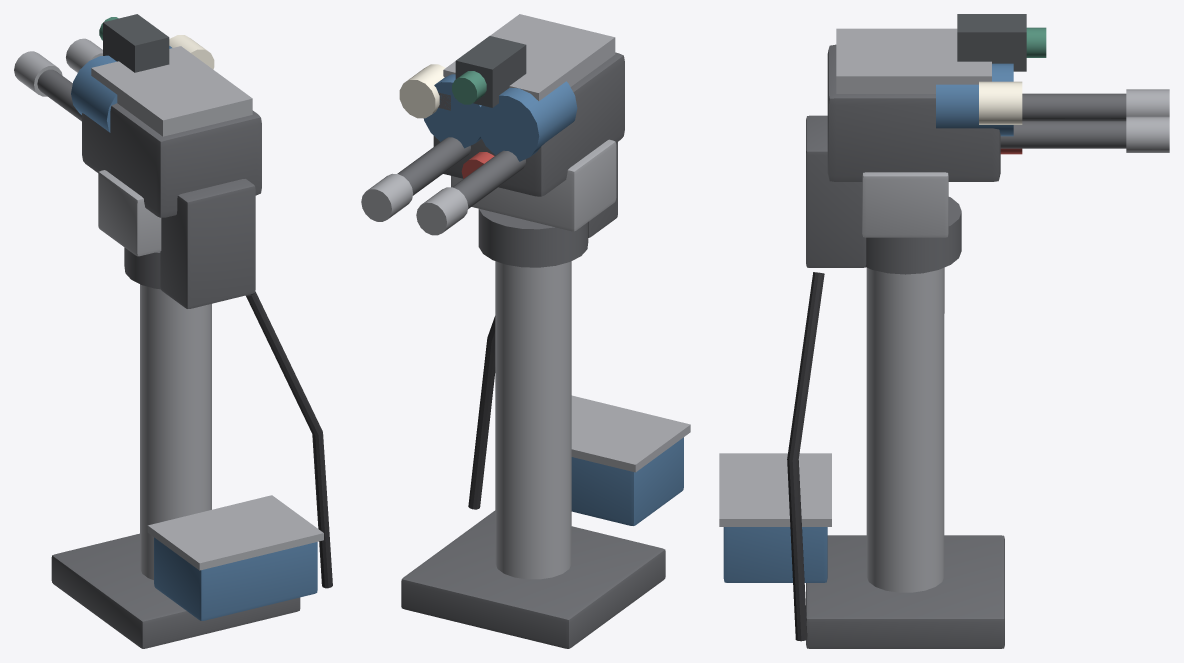
The model's file is DD_autoturret.fbx.
3 renders of one model, left to right at view 1: azimuth 30°, elevation 25°; view 2: azimuth 150°, elevation 25°; view 3: azimuth 270°, elevation 25°, orthographic. The views are drawn at different scales.
Parts seen in each view (by area): view 1: DD_autoturret; view 2: DD_autoturret; view 3: DD_autoturret.
Part boxes in pixels (<box>): DD_autoturret: <box>14,14,332,648</box>; DD_autoturret: <box>361,14,690,648</box>; DD_autoturret: <box>719,14,1169,648</box>.
Size of the model in its own units: 0.5439 by 1.49 by 1.04.
